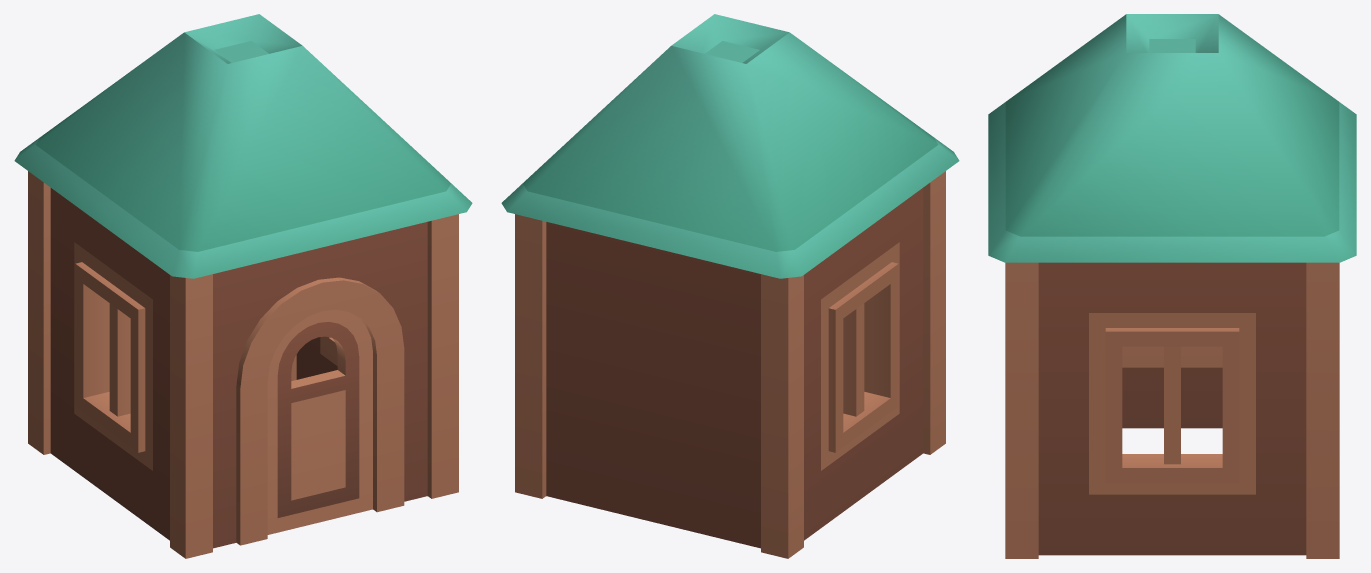
The model's file is house_1.glb.
3 renders of one model, left to right at view 1: azimuth 30°, elevation 25°; view 2: azimuth 150°, elevation 25°; view 3: azimuth 270°, elevation 25°, orthographic. The views are drawn at different scales.
Visible parts, largest first — view 1: house_1; view 2: house_1; view 3: house_1.
Part boxes in pixels (bbox=[...]): house_1: bbox=[14, 14, 472, 558]; house_1: bbox=[501, 14, 959, 558]; house_1: bbox=[988, 14, 1356, 558].
Size of the model in its own units: 0.792 by 1.08 by 0.792.
5 materials, 5 textured.
